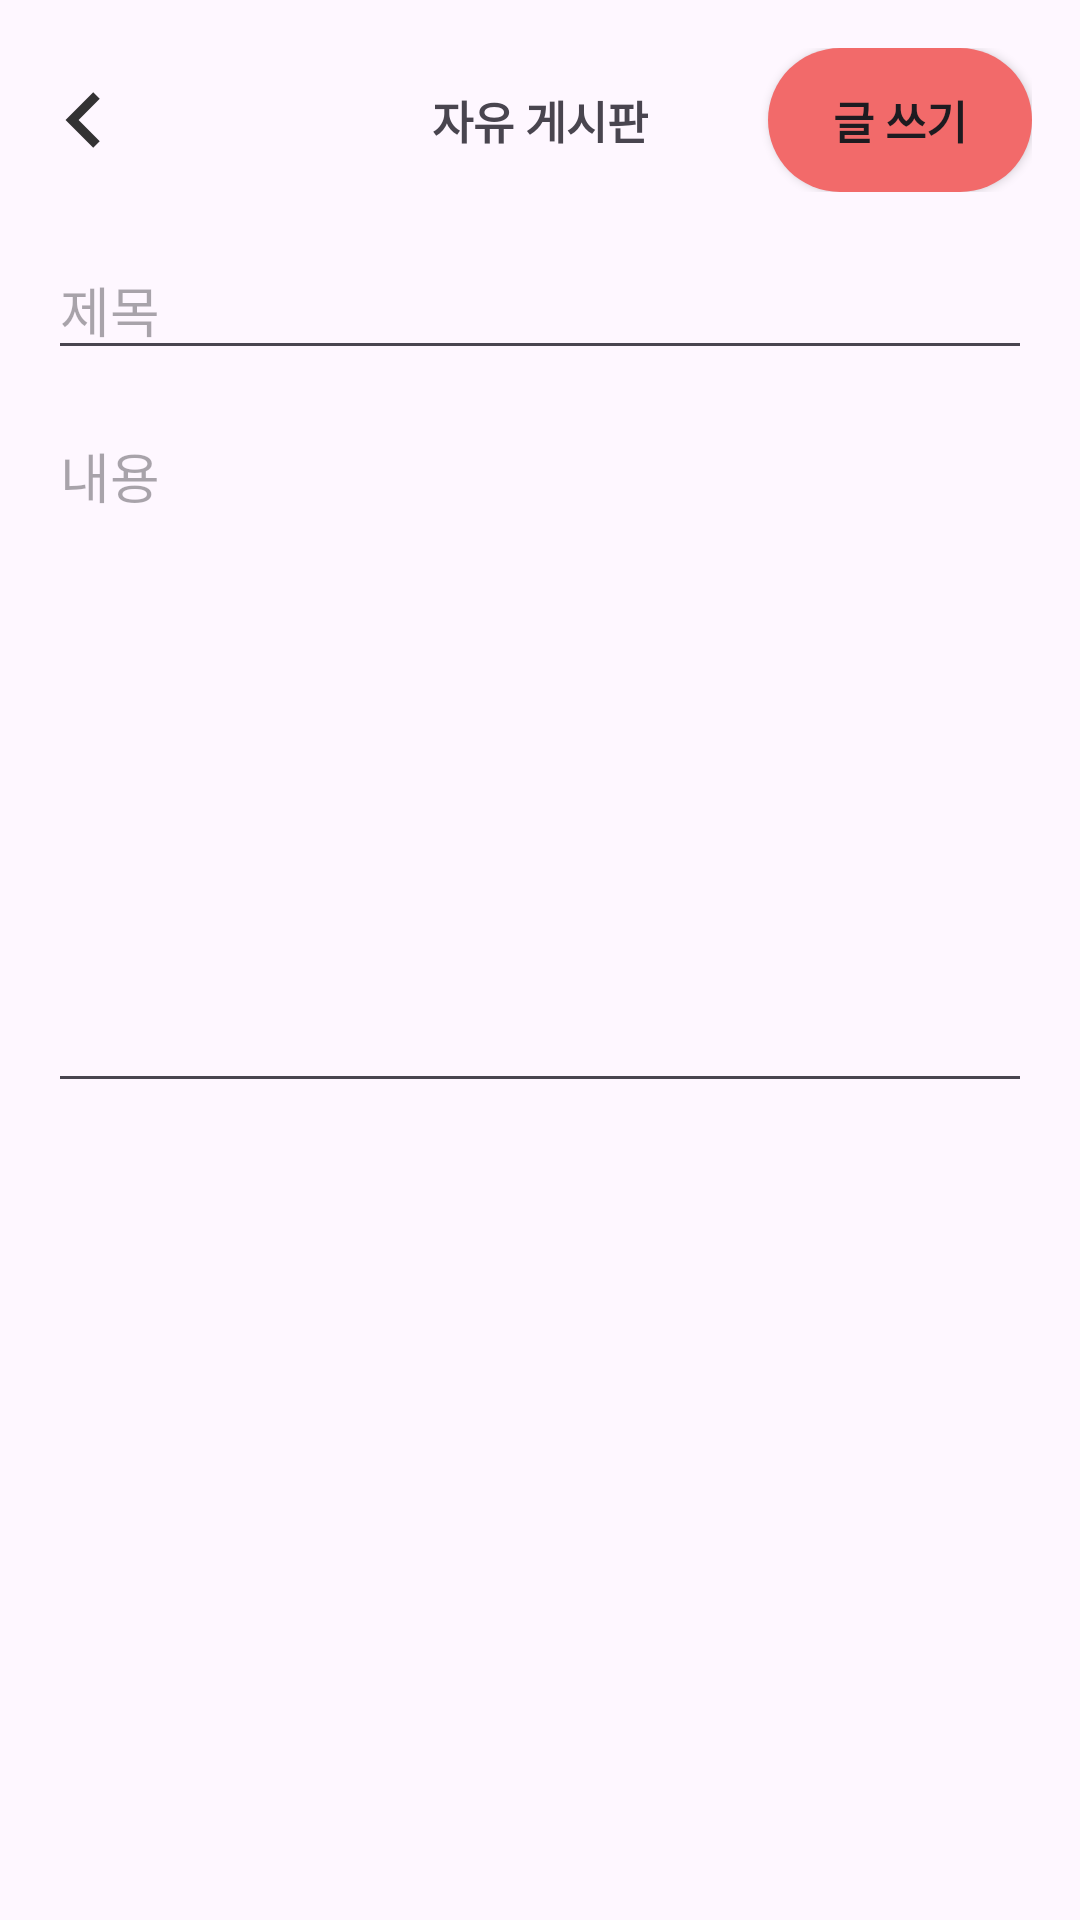

Named icons in this screenshot (1080px x 1920px) and their bounding boxes, (x1, y1, x2, y2):
back: (66, 92, 100, 148)
